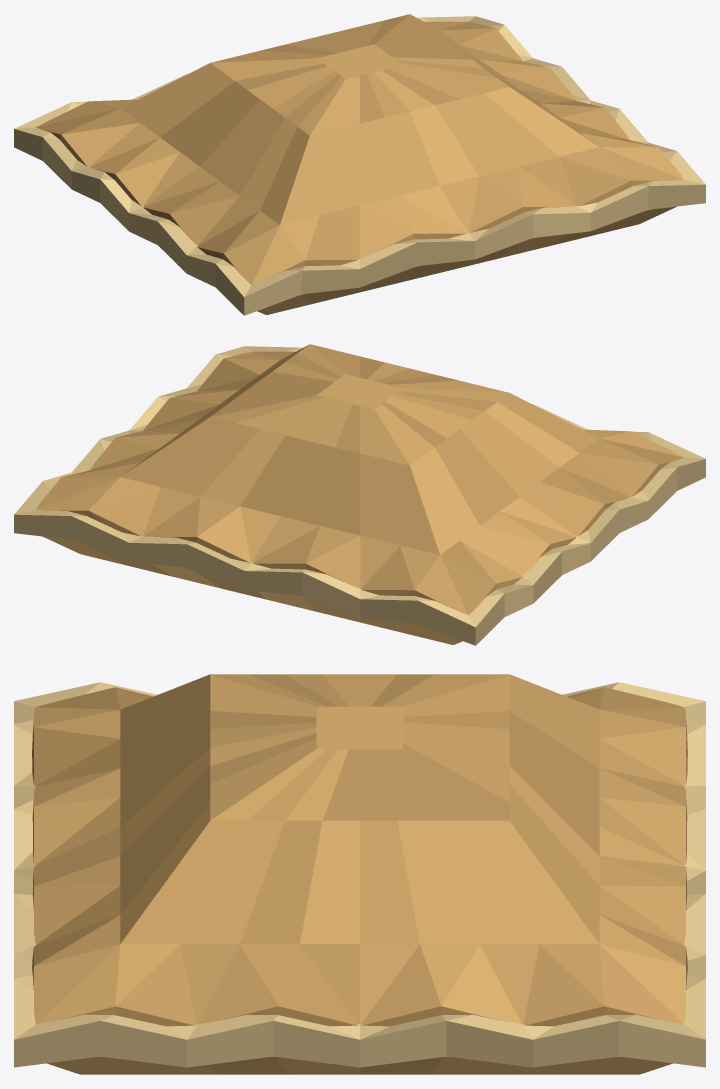
Rendered from ED_06_Crimped_Ravioli.fbx.
3 renders of one model, top to bottom at view 1: azimuth 30°, elevation 25°; view 2: azimuth 150°, elevation 25°; view 3: azimuth 270°, elevation 25°, orthographic. The views are drawn at different scales.
Visible parts, largest first — view 1: ED_06_Crimped_Ravioli; view 2: ED_06_Crimped_Ravioli; view 3: ED_06_Crimped_Ravioli.
Boxes of the visible parts, x1,y1,x2,y2 form: ED_06_Crimped_Ravioli: [14, 14, 705, 315]; ED_06_Crimped_Ravioli: [14, 344, 705, 645]; ED_06_Crimped_Ravioli: [14, 674, 705, 1074].
Size of the model in its own units: 0.9152 by 0.285 by 0.7904.
Materials: 2 (2 with a texture image).
